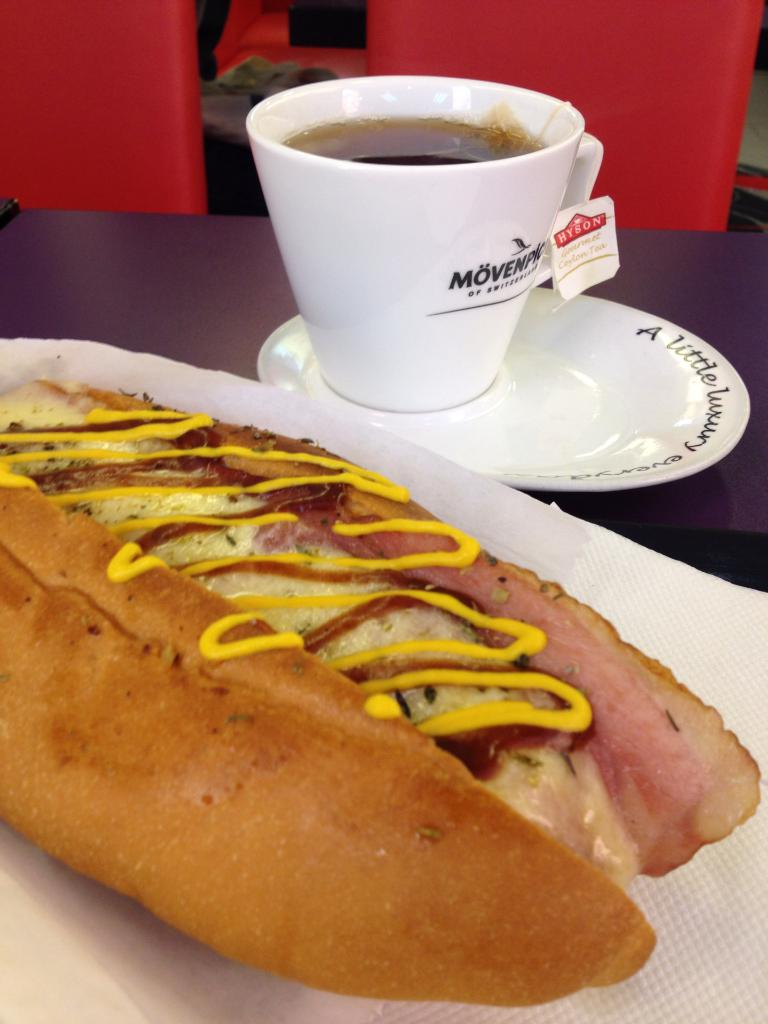hot_dog: (0, 372, 767, 1014)
